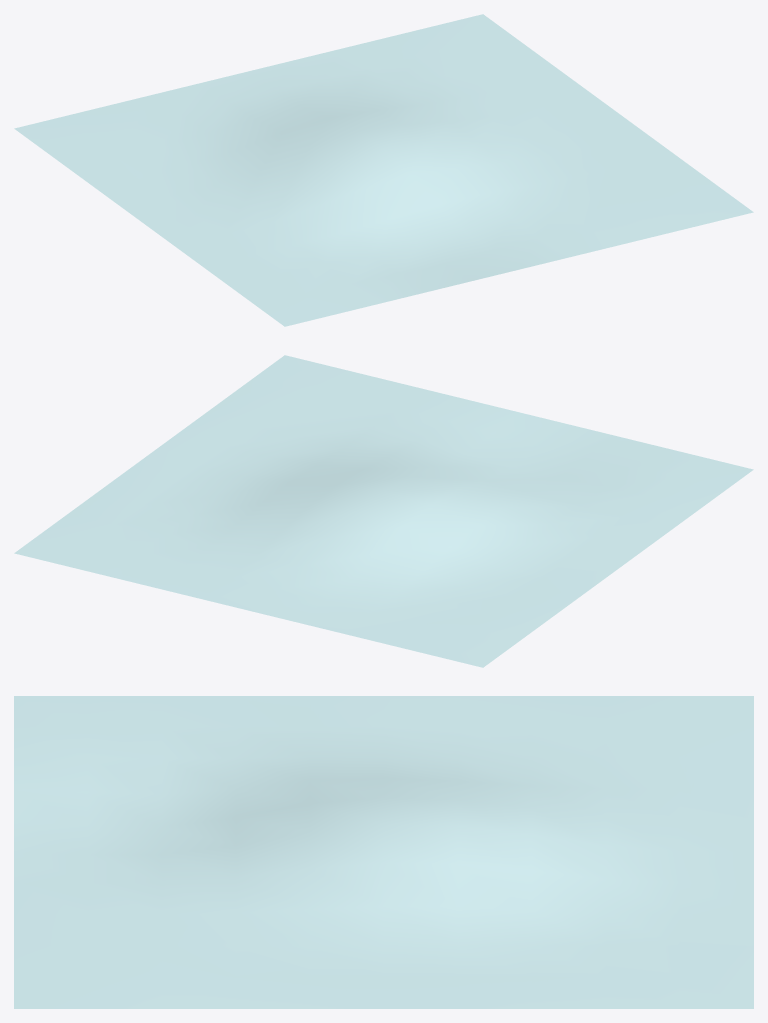
File: SS_Terrain3.fbx
3 renders of one model, top to bottom at view 1: azimuth 30°, elevation 25°; view 2: azimuth 150°, elevation 25°; view 3: azimuth 270°, elevation 25°, orthographic. The views are drawn at different scales.
Parts seen in each view (by area): view 1: Terrain3; view 2: Terrain3; view 3: Terrain3.
Boxes of the visible parts, <box> form: Terrain3: <box>14,14,753,326</box>; Terrain3: <box>14,355,753,667</box>; Terrain3: <box>14,696,753,1008</box>.
Size of the model in its own units: 23.97 by 1.2 by 23.97.
